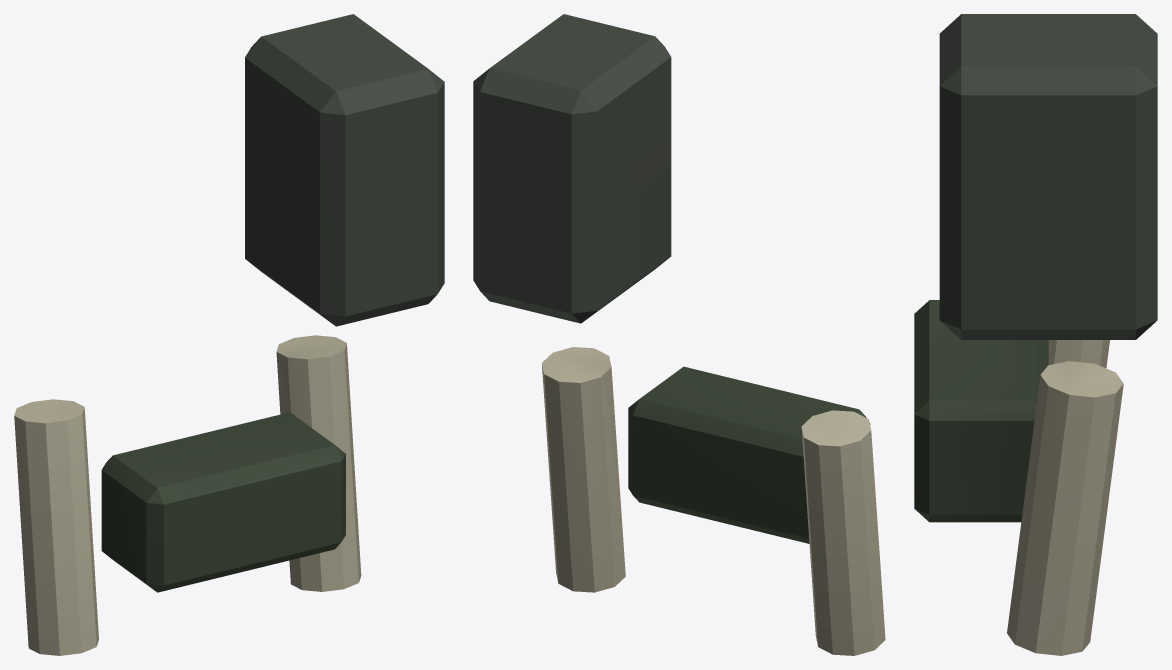
Rendered from leg_fast_right.glb.
The picture shows the model from 3 angles, left to right: view 1: azimuth 30°, elevation 25°; view 2: azimuth 150°, elevation 25°; view 3: azimuth 270°, elevation 25°; orthographic projection. The views are drawn at different scales.
Visible parts, largest first — view 1: March_pump.001, Drive_manifold.001, High_flow_leg_ram.002, High_flow_leg_ram.003; view 2: March_pump.001, Drive_manifold.001, High_flow_leg_ram.002, High_flow_leg_ram.003; view 3: March_pump.001, High_flow_leg_ram.003, Drive_manifold.001, High_flow_leg_ram.002.
Boxes of the visible parts, box(x1,y1,x2,y2) form: March_pump.001: box(245, 14, 444, 326); Drive_manifold.001: box(101, 412, 345, 592); High_flow_leg_ram.002: box(14, 399, 98, 655); High_flow_leg_ram.003: box(276, 335, 361, 591); March_pump.001: box(473, 14, 671, 323); Drive_manifold.001: box(628, 366, 870, 543); High_flow_leg_ram.002: box(801, 410, 885, 655); High_flow_leg_ram.003: box(541, 347, 625, 592); March_pump.001: box(939, 14, 1157, 339); High_flow_leg_ram.003: box(1007, 361, 1123, 655); Drive_manifold.001: box(914, 300, 1048, 522); High_flow_leg_ram.002: box(1048, 340, 1109, 368).
Bounding box in the file's own units: 0.2988 × 0.4029 × 0.145.
